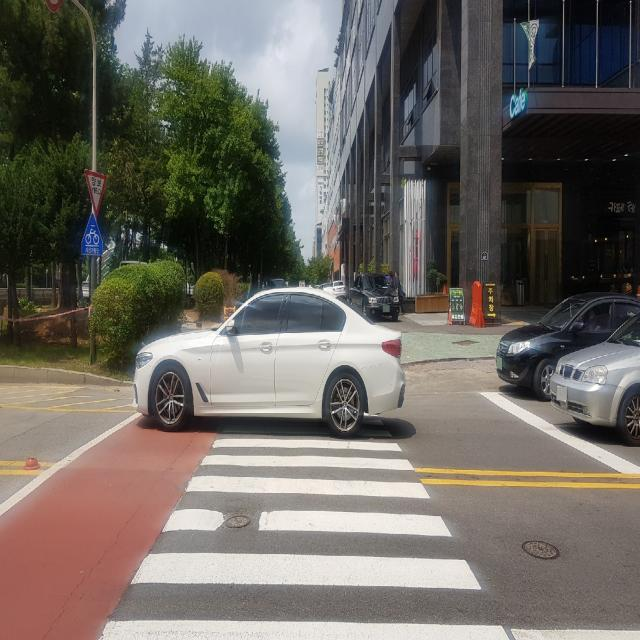횡단보도: (95, 409, 513, 640)
